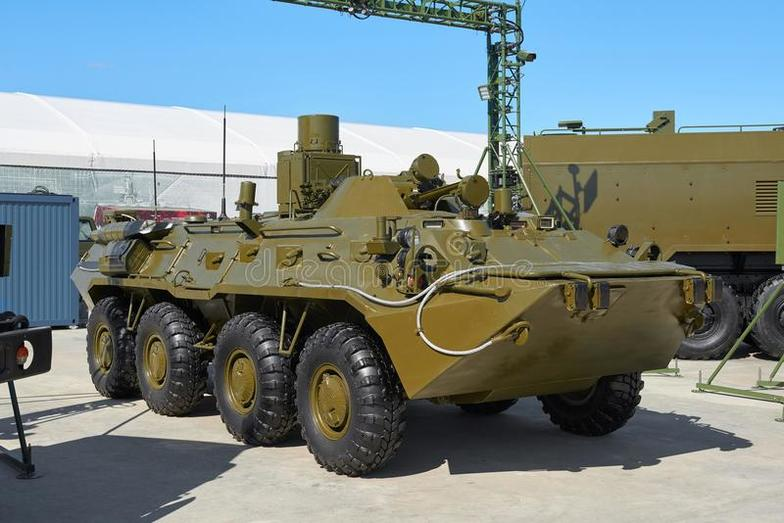btr: (74, 174, 698, 454)
